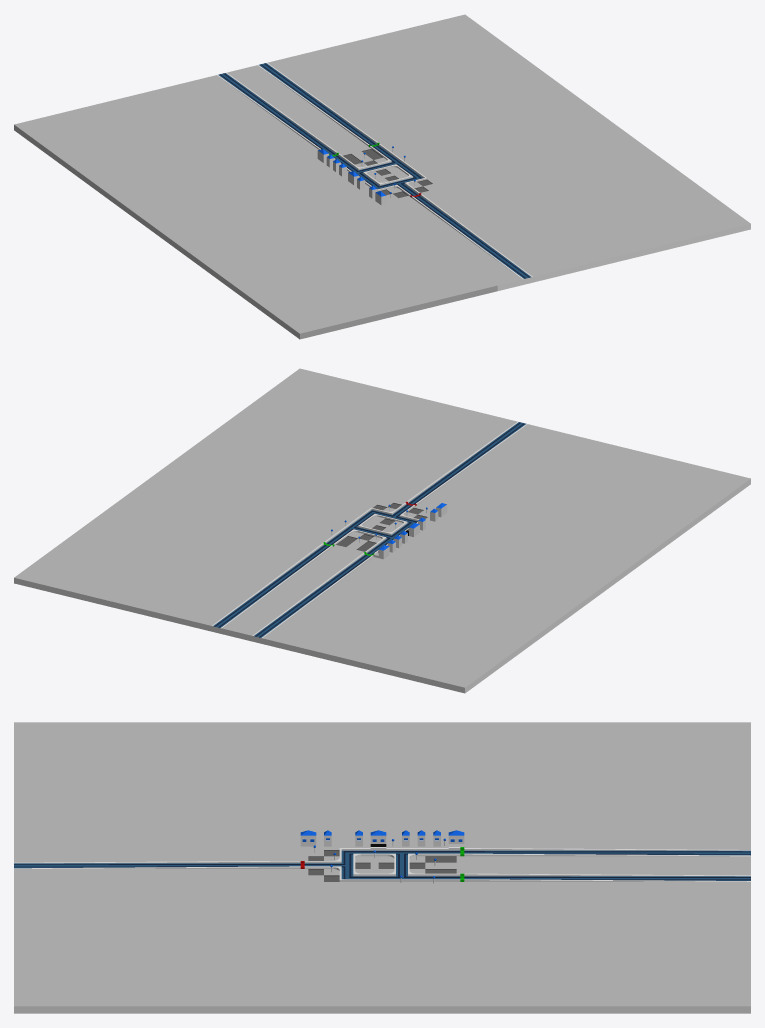
The model's file is Stage6.fbx.
3 views of the same model, one above another, from view 1: azimuth 30°, elevation 25°; view 2: azimuth 150°, elevation 25°; view 3: azimuth 270°, elevation 25° (orthographic). The views are drawn at different scales.
Parts seen in each view (by area): view 1: Cube; view 2: Cube; view 3: Cube.
Boxes of the visible parts, x1,y1,x2,y2 form: Cube: (14,14,750,339); Cube: (14,368,750,693); Cube: (14,722,750,1013).
Size of the model in its own units: 16400 by 600 by 18000.
